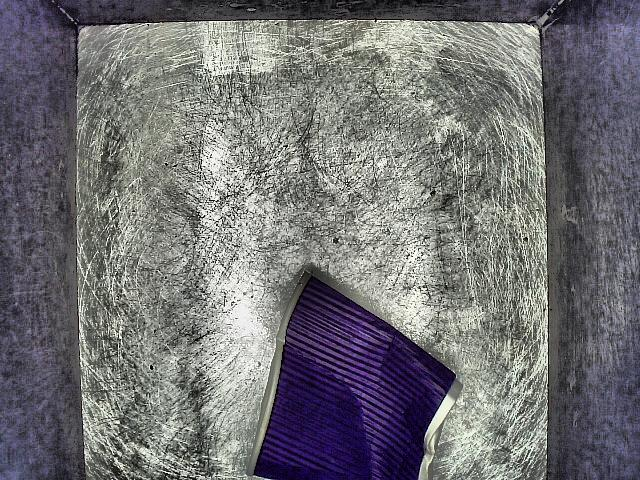Paper: (229, 260, 467, 473)
